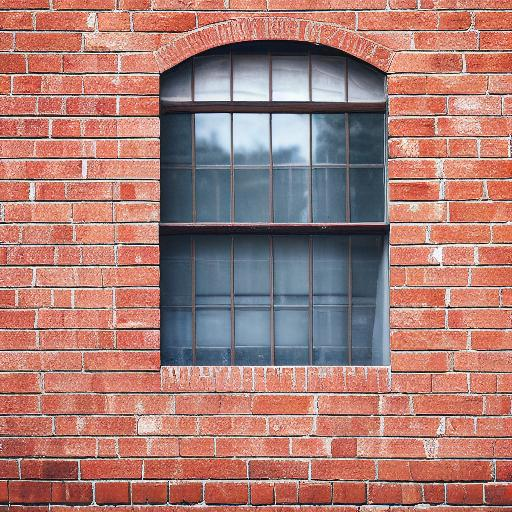Window: (151, 21, 397, 393)
